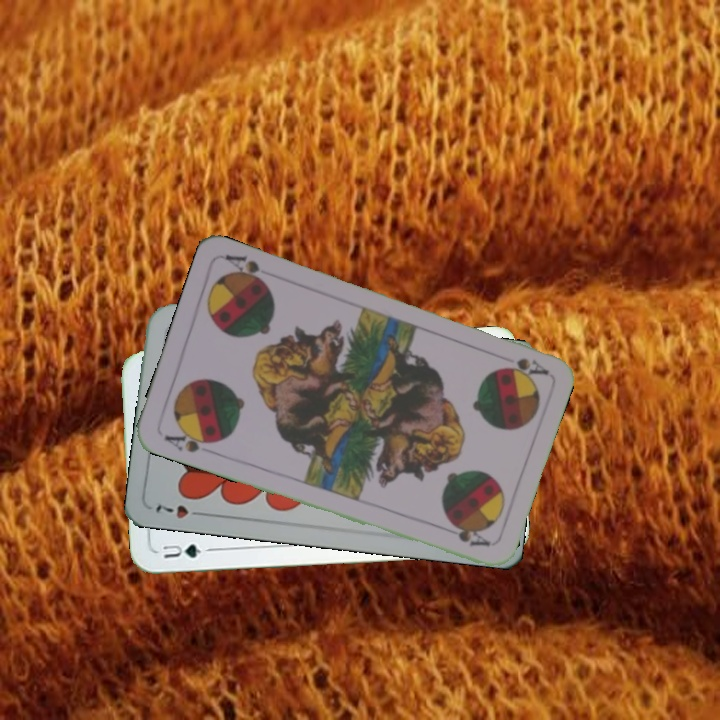GU: (158, 539, 214, 561)
H7: (151, 500, 208, 522)
SA: (160, 425, 219, 455), (501, 354, 551, 378)
